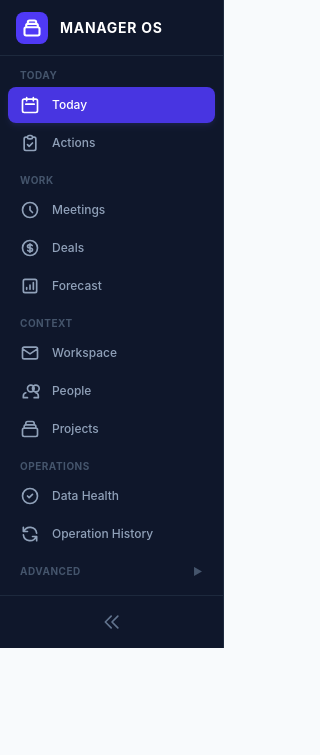
Test case: Sidebar Component › expands Advanced when clicked
Step 1. Click the text "Advanced" → (50, 572), box x1=20 y1=564 x2=81 y2=579
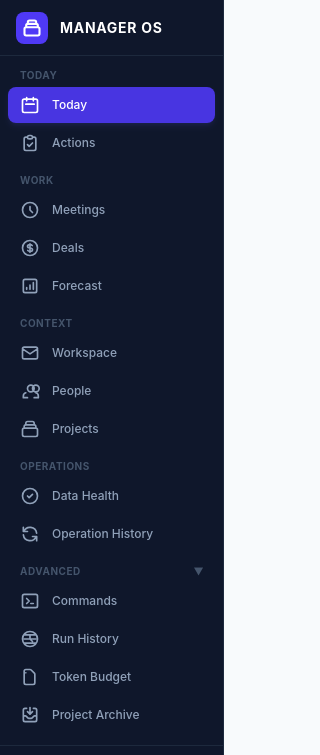
Expected: the text "Commands" is shown, x1=52 y1=593 x2=117 y2=609
Expected: the text "Run History" is shown, x1=52 y1=631 x2=119 y2=647
Expected: the text "Token Budget" is shown, x1=52 y1=669 x2=131 y2=685
